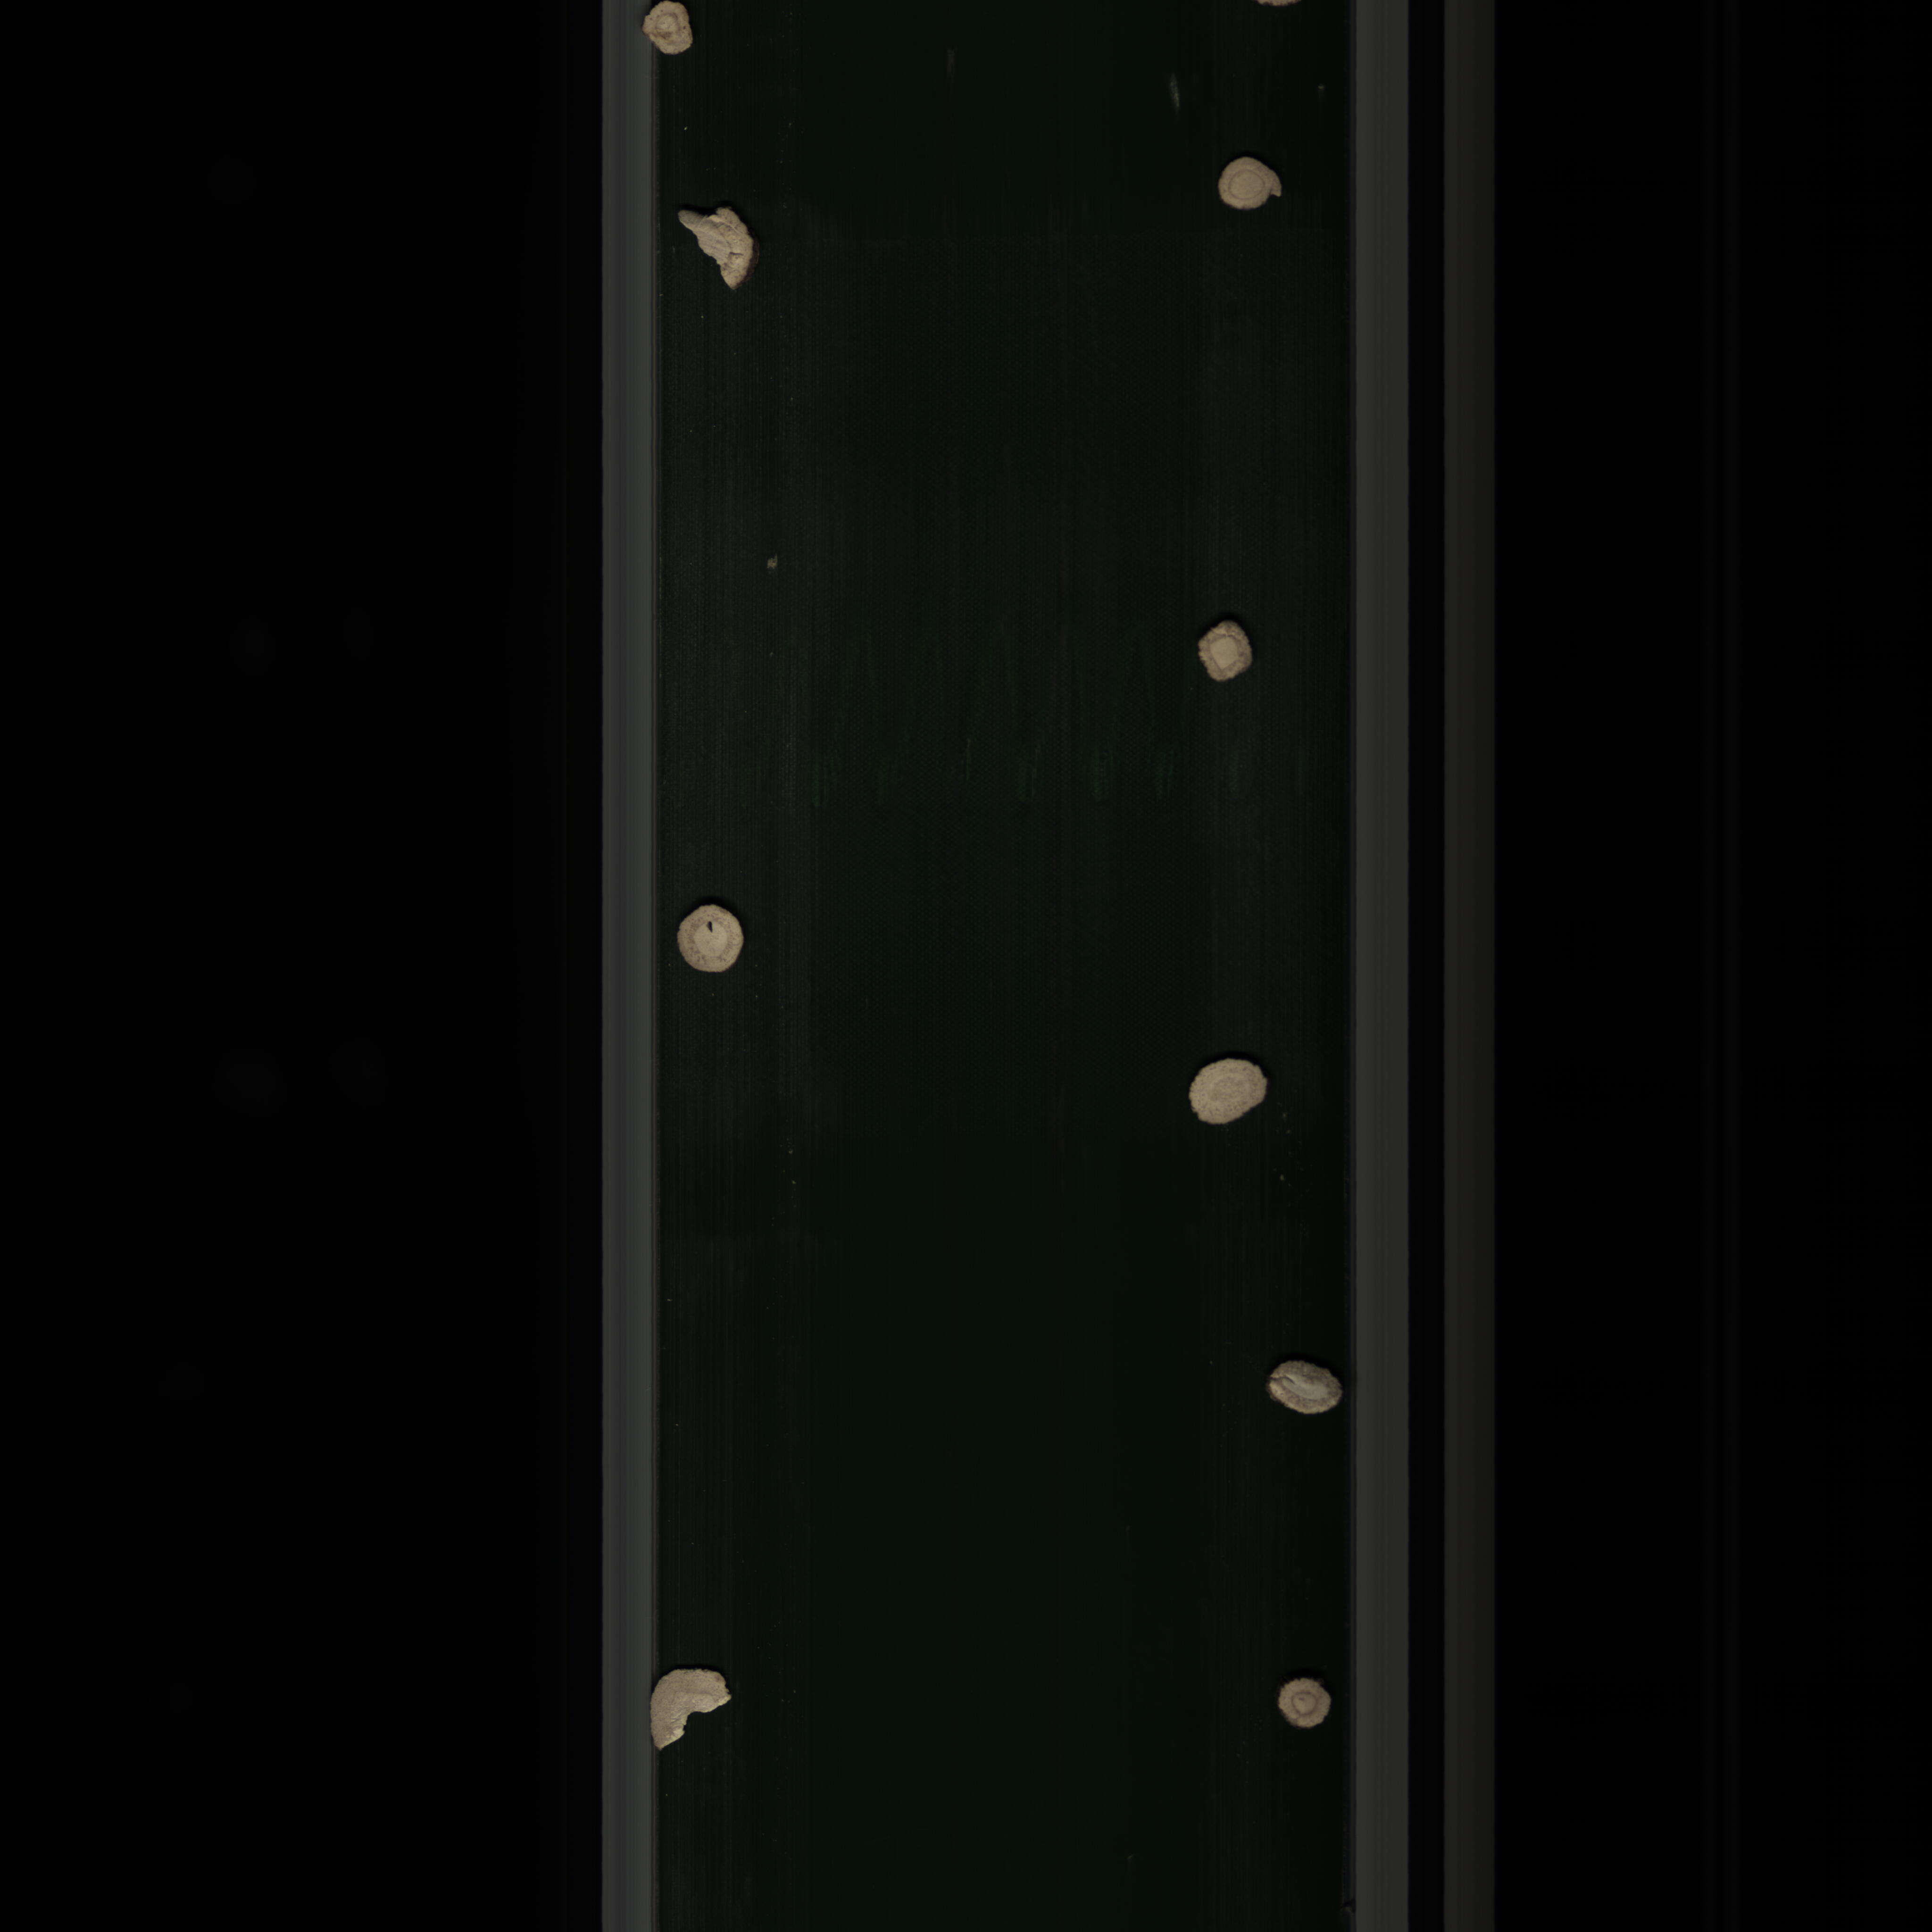debris: (672, 205, 771, 297), (644, 1668, 738, 1757)
hole: (665, 890, 771, 998)
